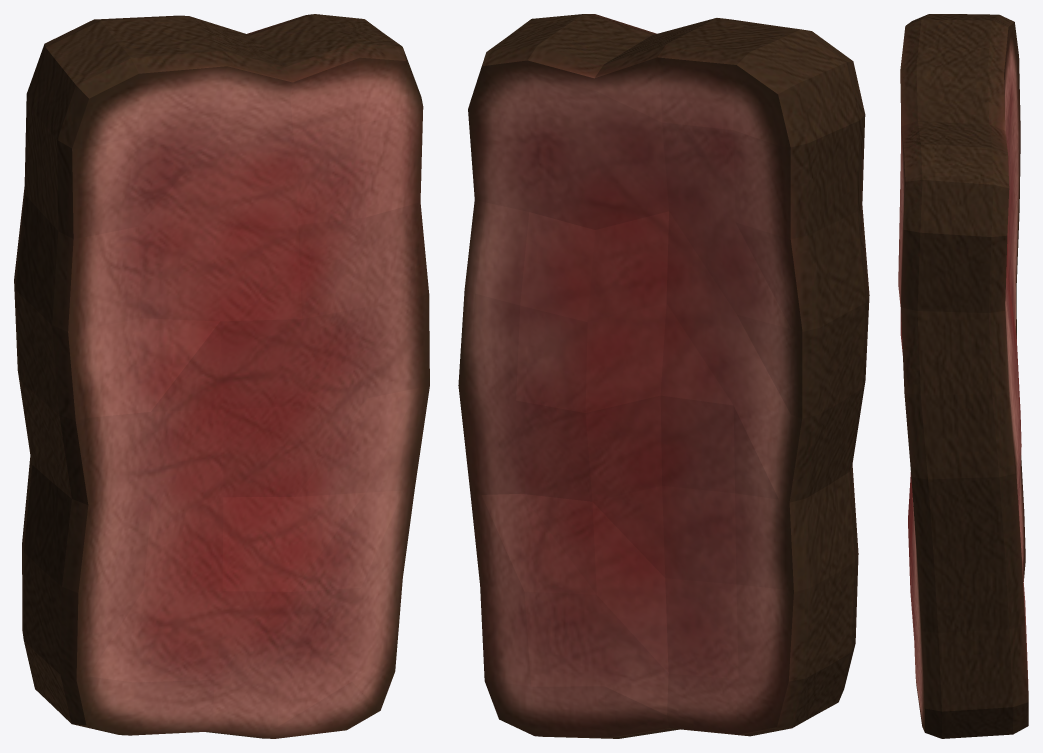
File: SteakSlice_1.fbx
3 views of the same model, side by side, from view 1: azimuth 30°, elevation 25°; view 2: azimuth 150°, elevation 25°; view 3: azimuth 270°, elevation 25° (orthographic). The views are drawn at different scales.
Parts seen in each view (by area): view 1: SteakSlice_1; view 2: SteakSlice_1; view 3: SteakSlice_1.
Part boxes in pixels (x1=…): SteakSlice_1: x1=14, y1=14, x2=429, y2=738; SteakSlice_1: x1=458, y1=14, x2=869, y2=738; SteakSlice_1: x1=898, y1=14, x2=1028, y2=738.
Bounding box in the file's own units: 0.028 × 0.053 × 0.01.
Materials: 1 (1 with a texture image).
